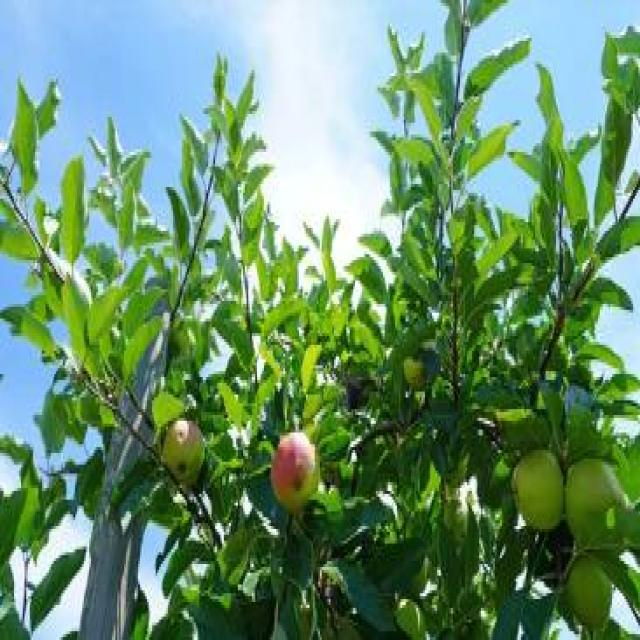fruit: (564, 451, 627, 554), (154, 404, 205, 491), (512, 449, 562, 530), (271, 432, 319, 512), (564, 557, 612, 629), (442, 482, 469, 540), (395, 597, 424, 640), (403, 356, 426, 390)
